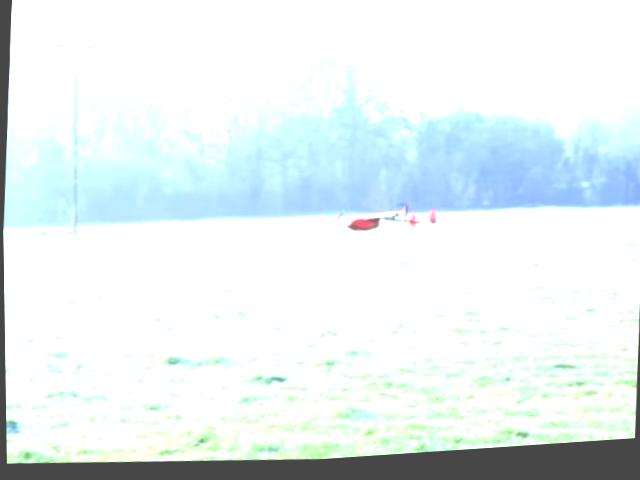uav: (324, 191, 448, 261)
